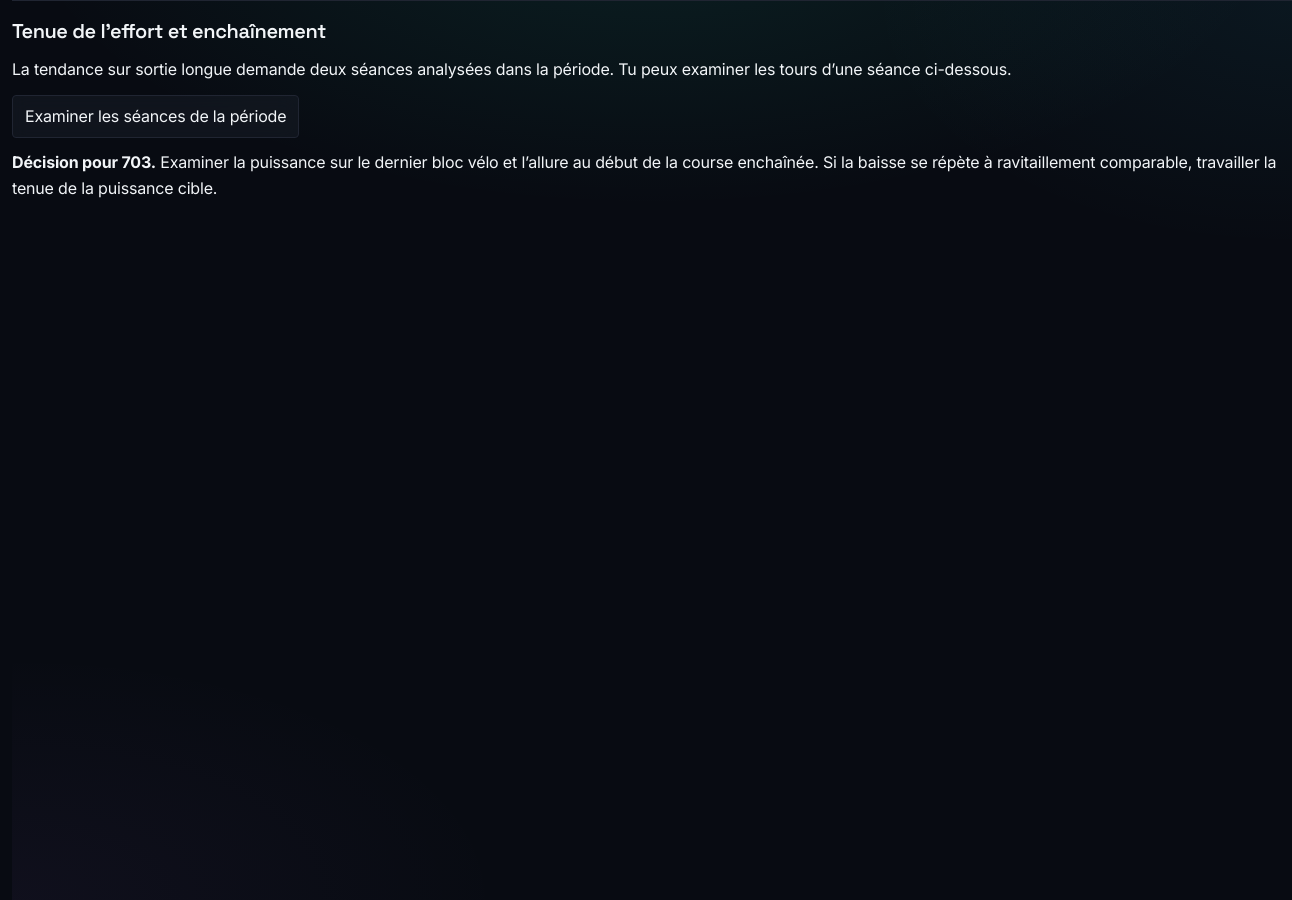
Test case: opens actual measured laps and requires choosing the post-bike run
Click the button "Examiner les séances de la période" at (156, 116), box [12,95,299,138]
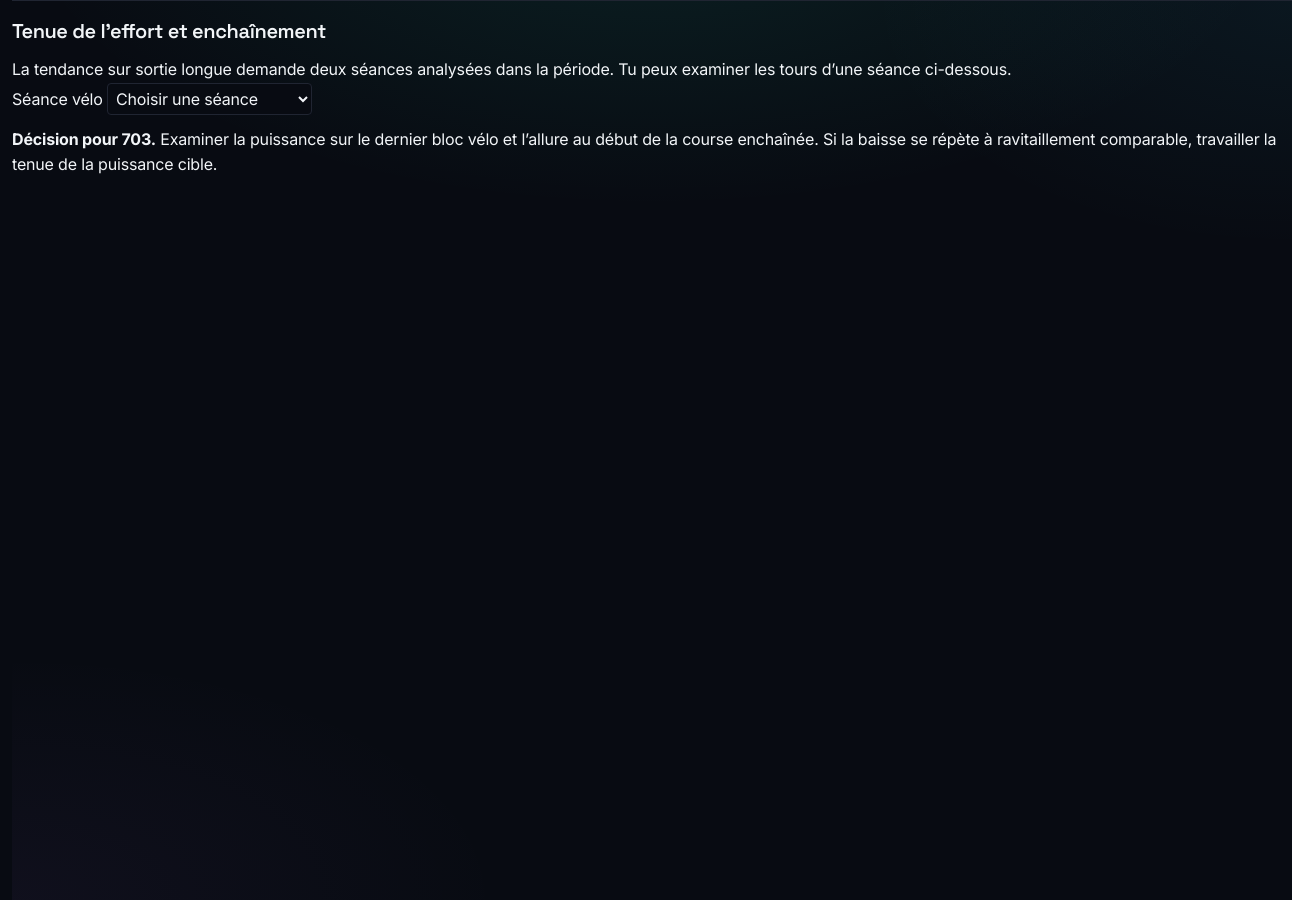
Select "2026-09-01 · Long vélo" in the dropdown labelled "Séance vélo" at (210, 99), box [107,83,312,115]
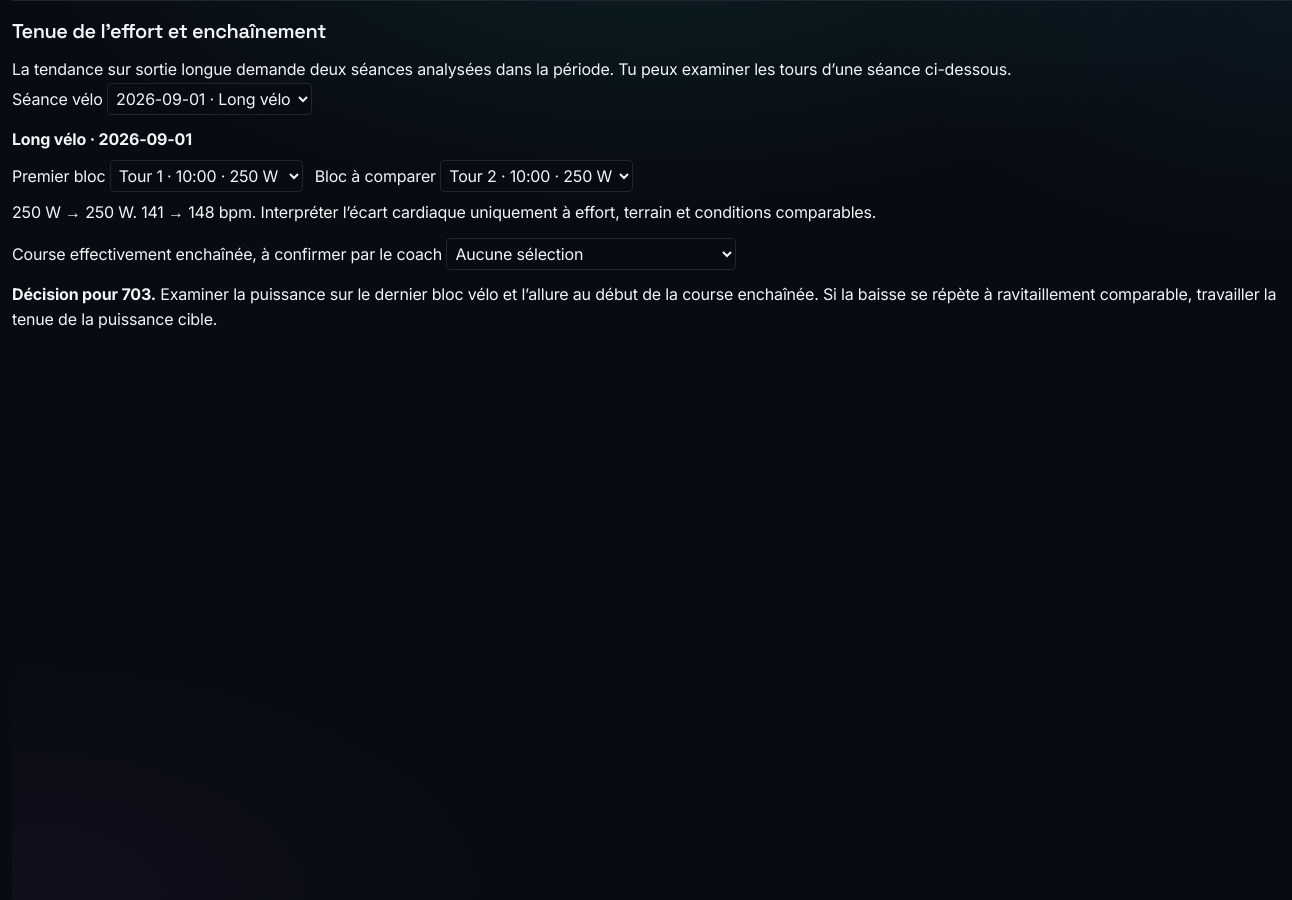
Result: the text "141 → 148 bpm" is shown at [141,202,256,222]
Select "Transition · 2026-09-01T12:30:00Z" in the dropdown labelled "Course effectivement enchaînée, à confirmer par le coach" at (591, 254), box [446,238,736,270]
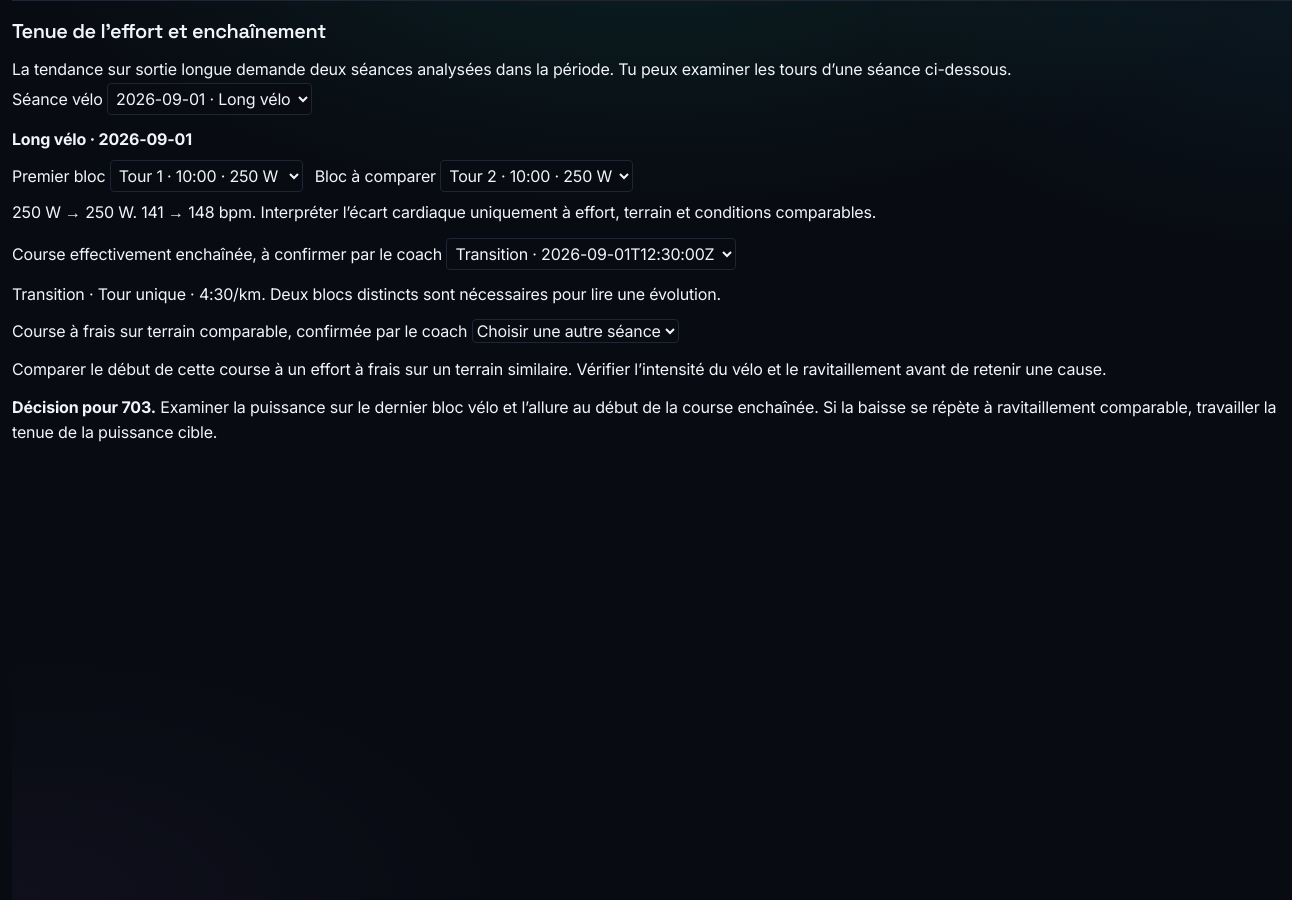
Result: the text "Tour unique · 4:30/km" is shown at [12,284,721,304]
